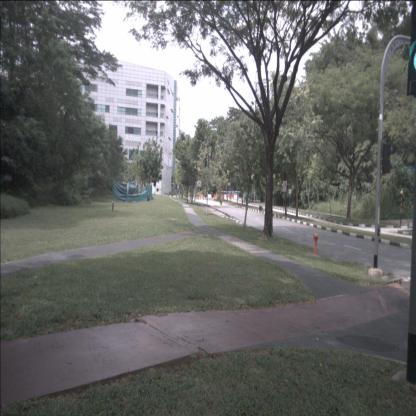movable_object-barrier: (214, 194, 218, 199), (208, 194, 212, 199), (230, 195, 234, 199), (234, 194, 237, 199), (227, 195, 230, 199), (224, 194, 226, 199)
